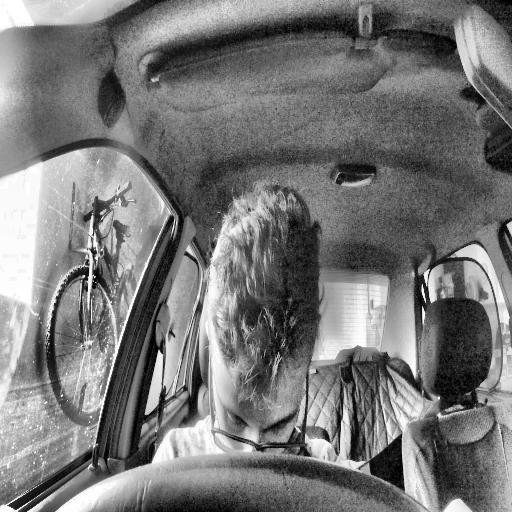drowsy: (204, 177, 324, 470)
